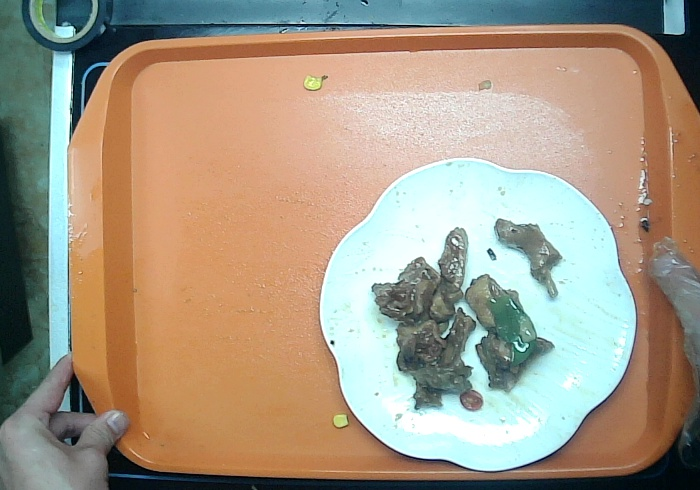HZYJPL-Bai_Se_Hua_Duo_Wan: (311, 147, 643, 478)
